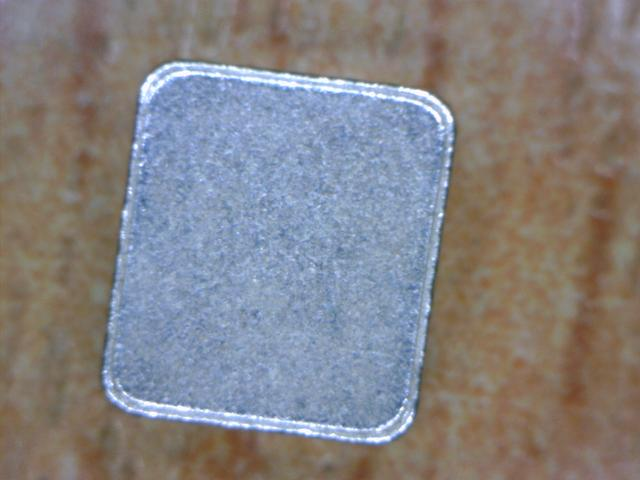nok: (94, 54, 464, 450)
